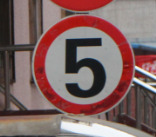speed_limit_5: (32, 13, 135, 116)
